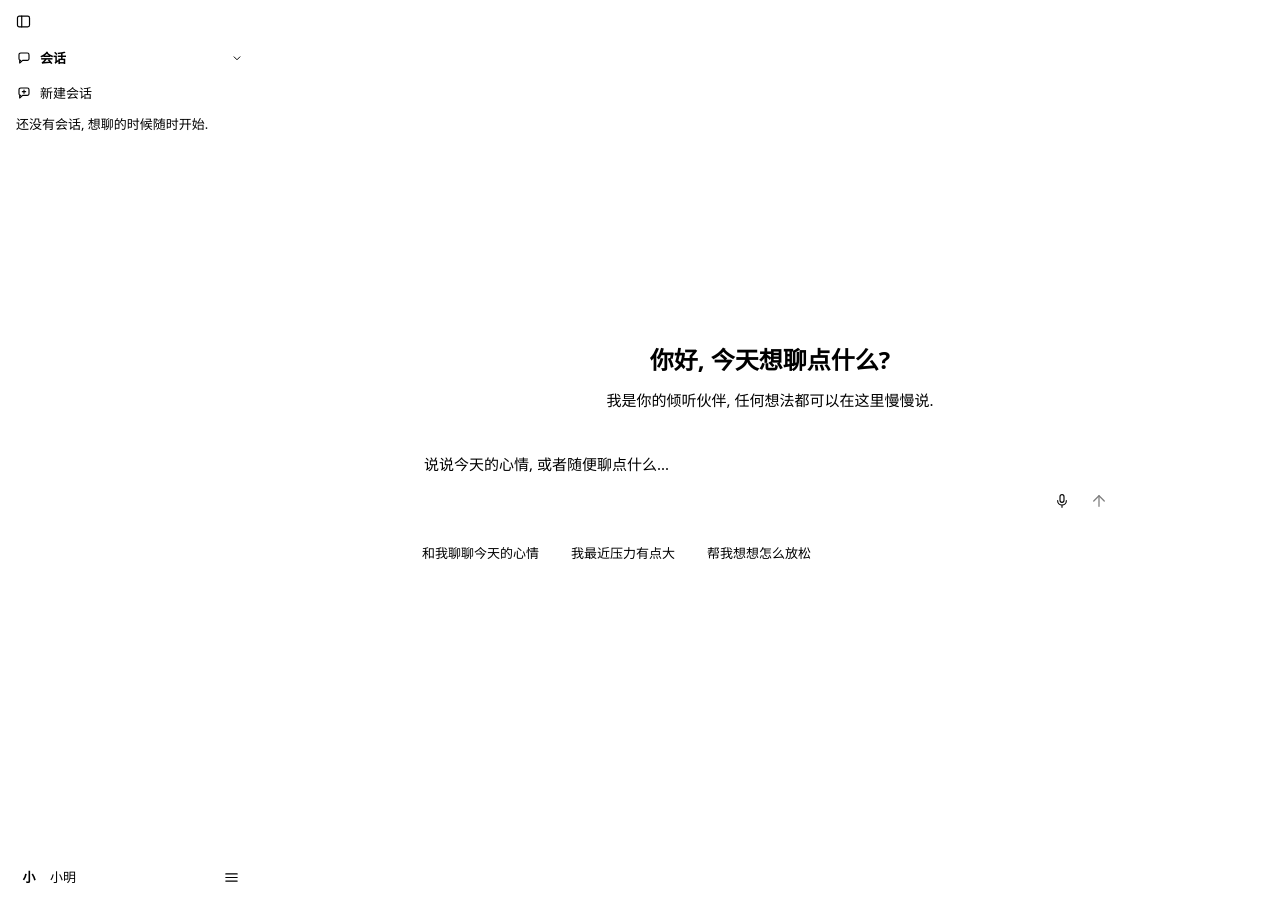
App (壳与路由 v2) › UserMenu: 汉堡开合, 四项按序 (危机支持/个人资料/设置/登出), Escape 与遮罩点击关闭
Click the button named "打开菜单" at (232, 877), box [219, 864, 244, 890]
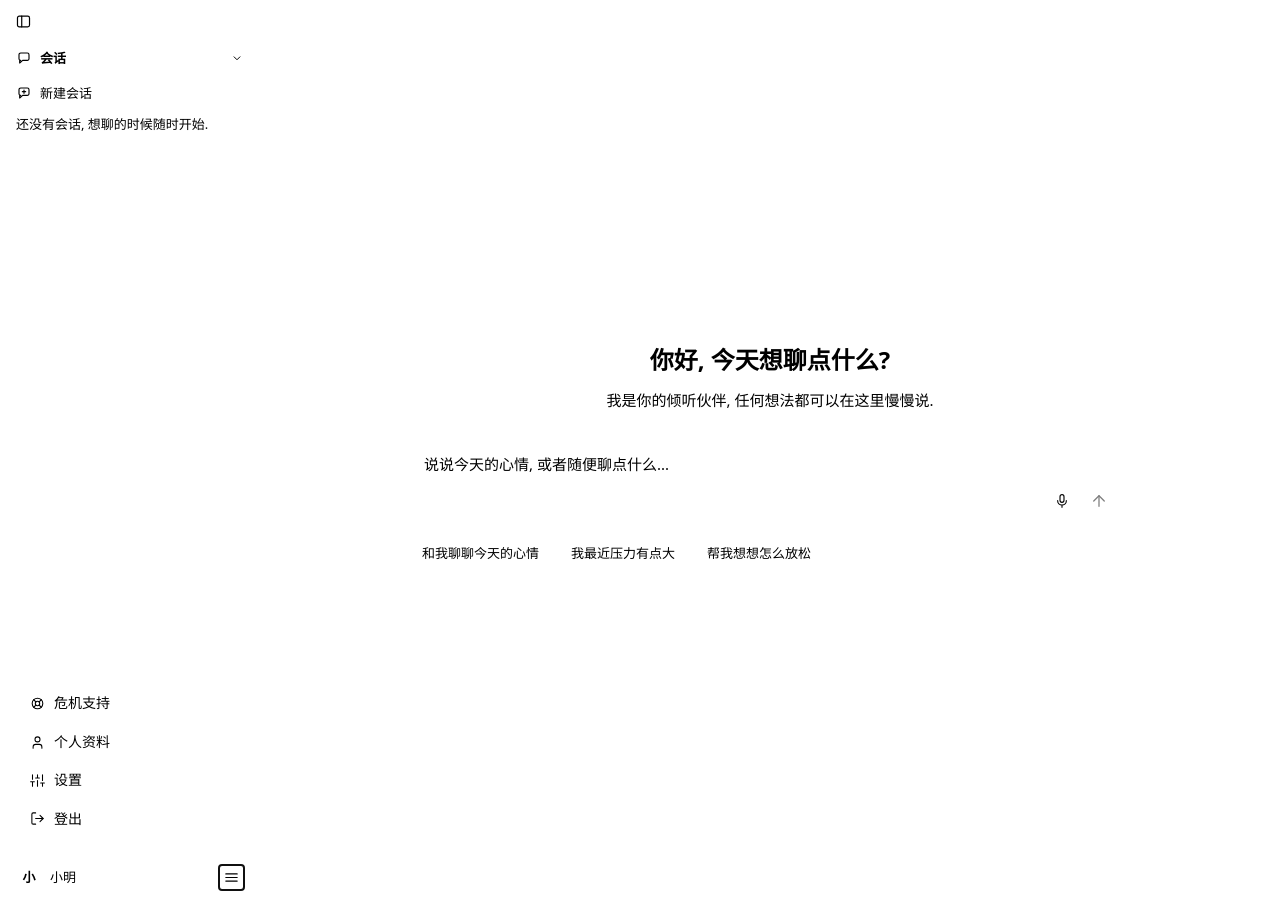
Check: the menu named "用户菜单" is shown, box [12, 678, 248, 844]
Check: the menu items read "危机支持", "个人资料", "设置", "登出", in this order, box [18, 684, 242, 723]; [18, 723, 242, 761]; [18, 761, 242, 800]; [18, 800, 242, 838]
Press Escape
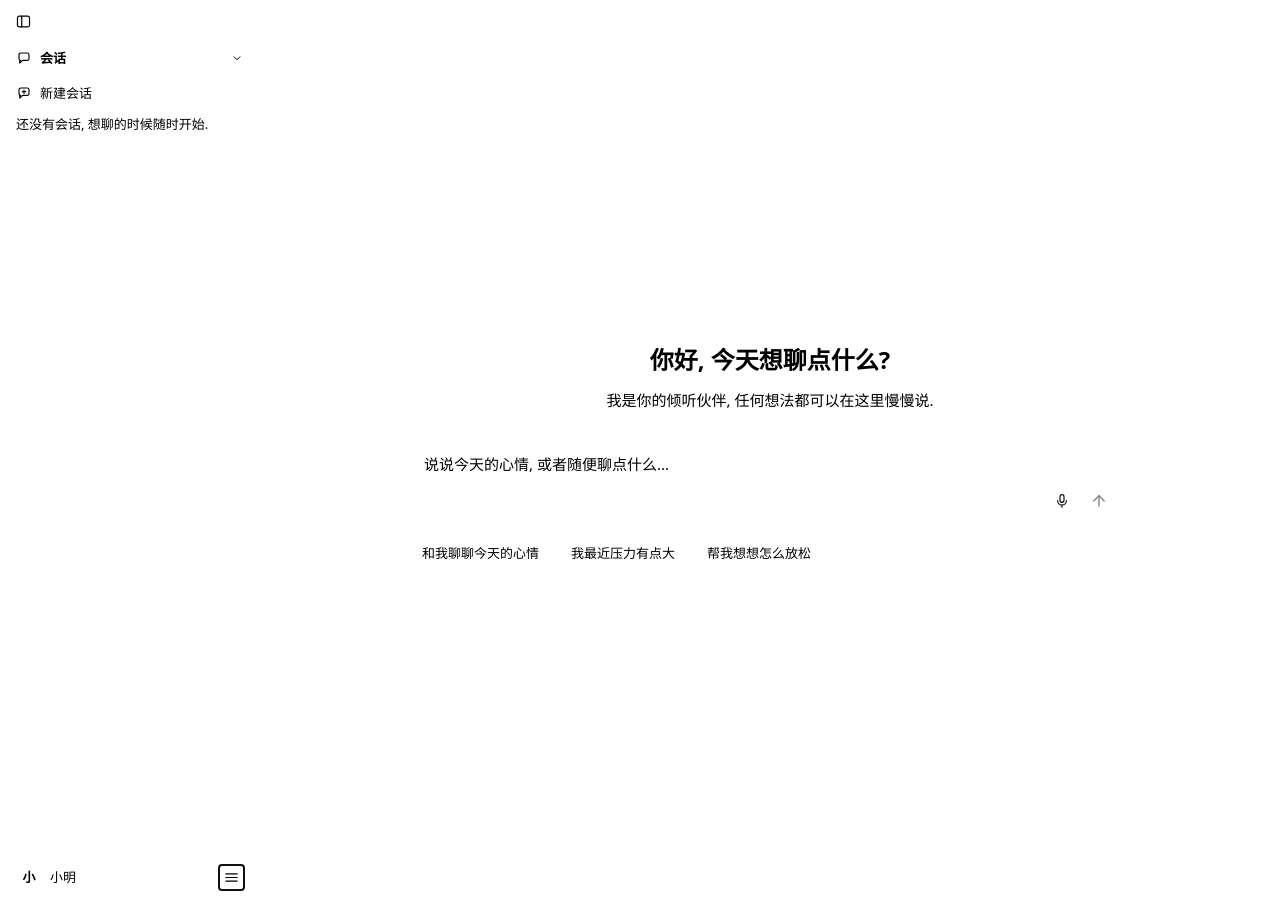
Check: the menu is gone
Click the button named "打开菜单" at (232, 877), box [219, 864, 244, 890]
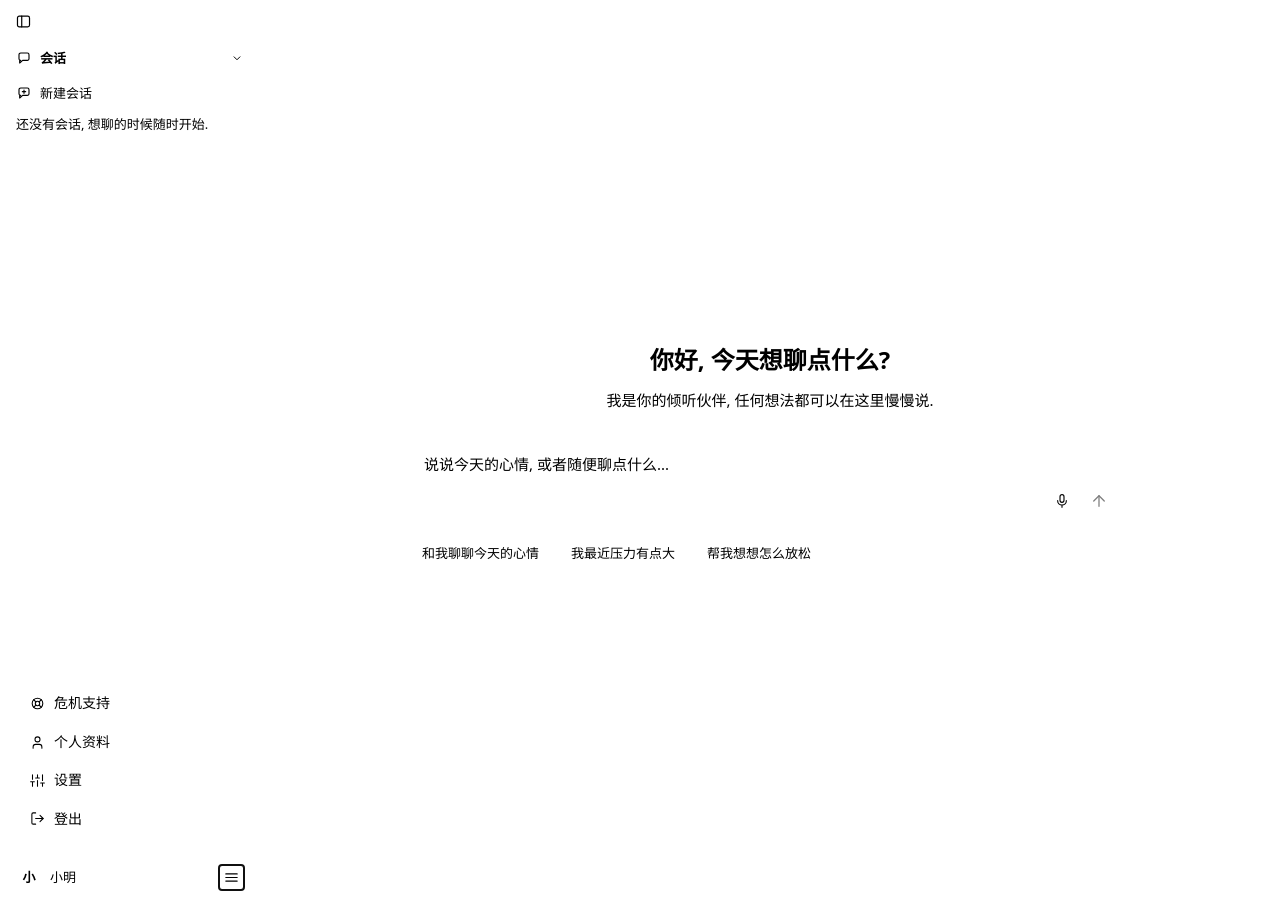
Click the element with class "user-menu-mask" at (640, 450), box [0, 0, 1279, 899]
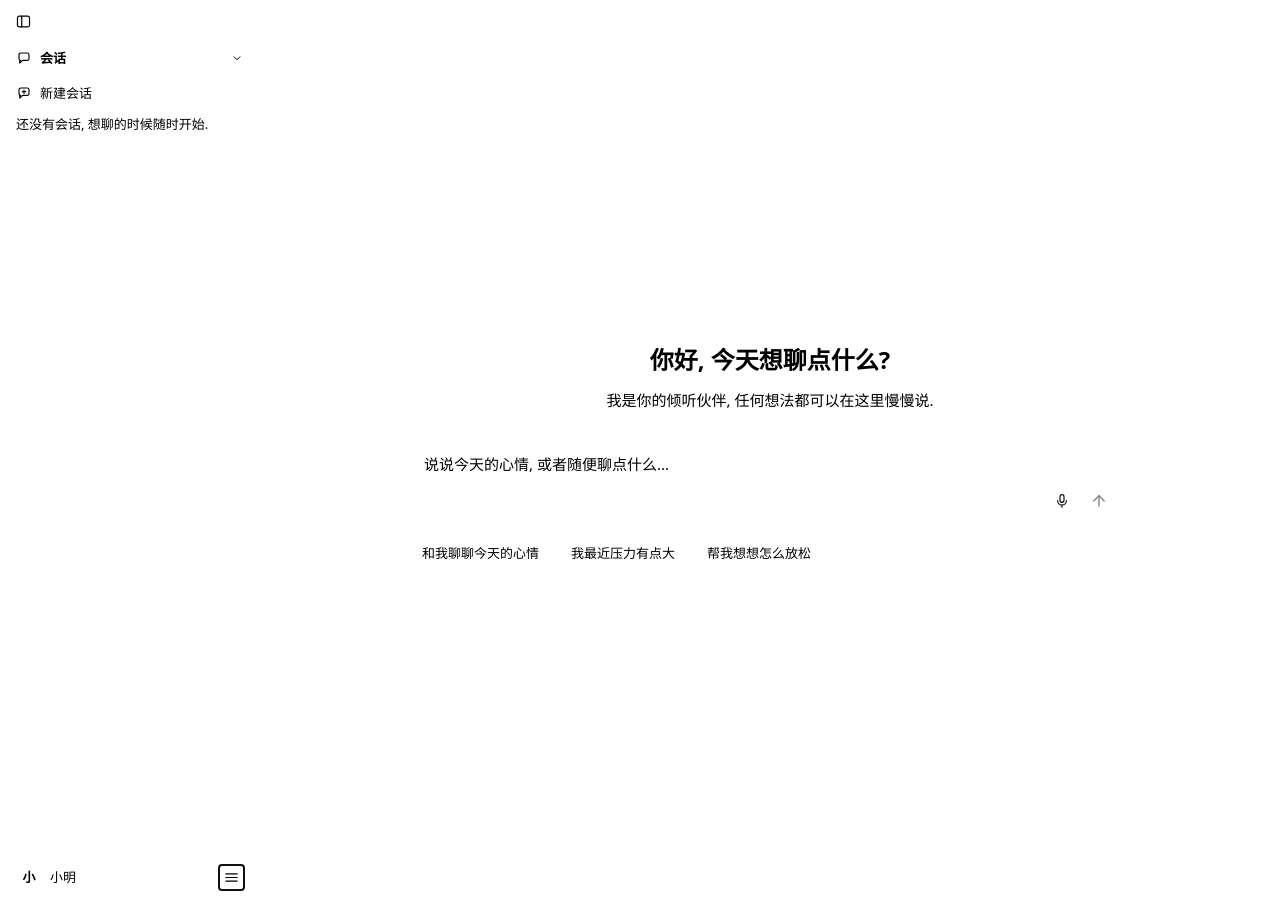
Check: the menu is gone
